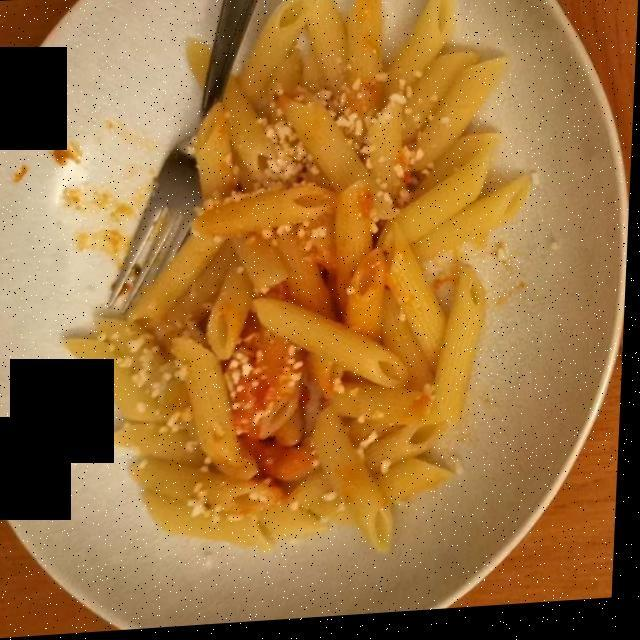cheese: (118, 76, 417, 439)
pasta: (77, 0, 522, 540)
